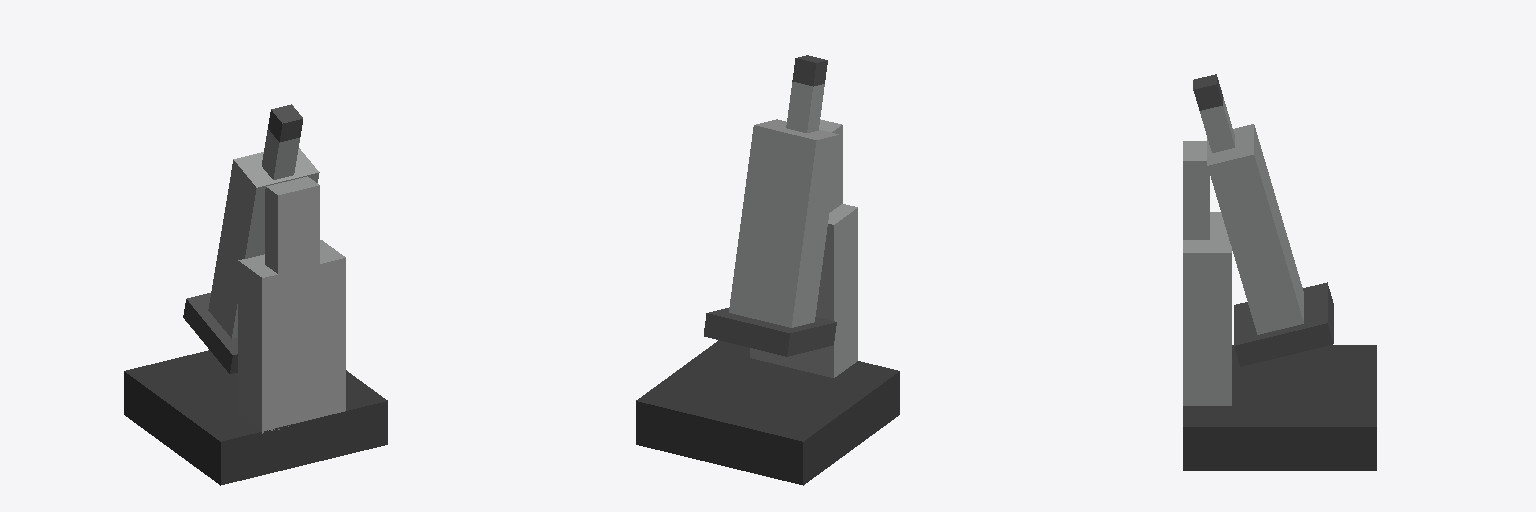
3 views of the same model, side by side, from view 1: azimuth 30°, elevation 25°; view 2: azimuth 150°, elevation 25°; view 3: azimuth 270°, elevation 25° (orthographic).
Parts seen in each view (by area): view 1: Base, Holder, Tube Thingy idk lol, Rotator, View, Lens; view 2: Base, Tube Thingy idk lol, Holder, Lens, View, Rotator; view 3: Base, Tube Thingy idk lol, Holder, Lens, Rotator, View.
Boxes of the visible parts, <box> form: Base: <box>124,350,387,485</box>; Holder: <box>238,240,345,433</box>; Tube Thingy idk lol: <box>208,148,319,338</box>; Rotator: <box>265,176,319,275</box>; View: <box>262,104,302,179</box>; Lens: <box>183,293,237,373</box>; Base: <box>636,340,899,485</box>; Tube Thingy idk lol: <box>729,119,839,327</box>; Holder: <box>750,204,857,377</box>; Lens: <box>704,308,836,356</box>; View: <box>786,55,827,132</box>; Rotator: <box>819,119,842,212</box>; Base: <box>1183,345,1376,470</box>; Tube Thingy idk lol: <box>1207,124,1303,334</box>; Holder: <box>1183,212,1231,405</box>; Lens: <box>1234,282,1333,366</box>; Rotator: <box>1183,141,1209,239</box>; View: <box>1193,74,1234,152</box>.
Bounding box in the file's own units: 0.5 × 0.9914 × 0.5.
1 materials, 1 textured.